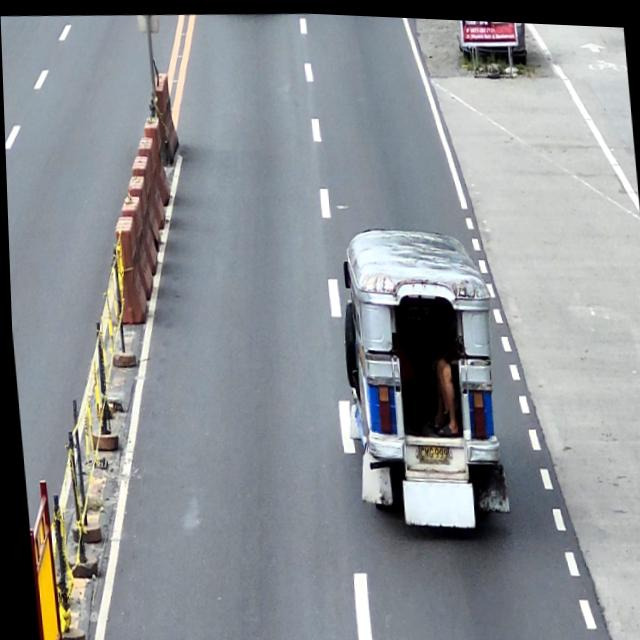Jeep: (330, 218, 508, 533)
License-Plate: (414, 441, 447, 462)
